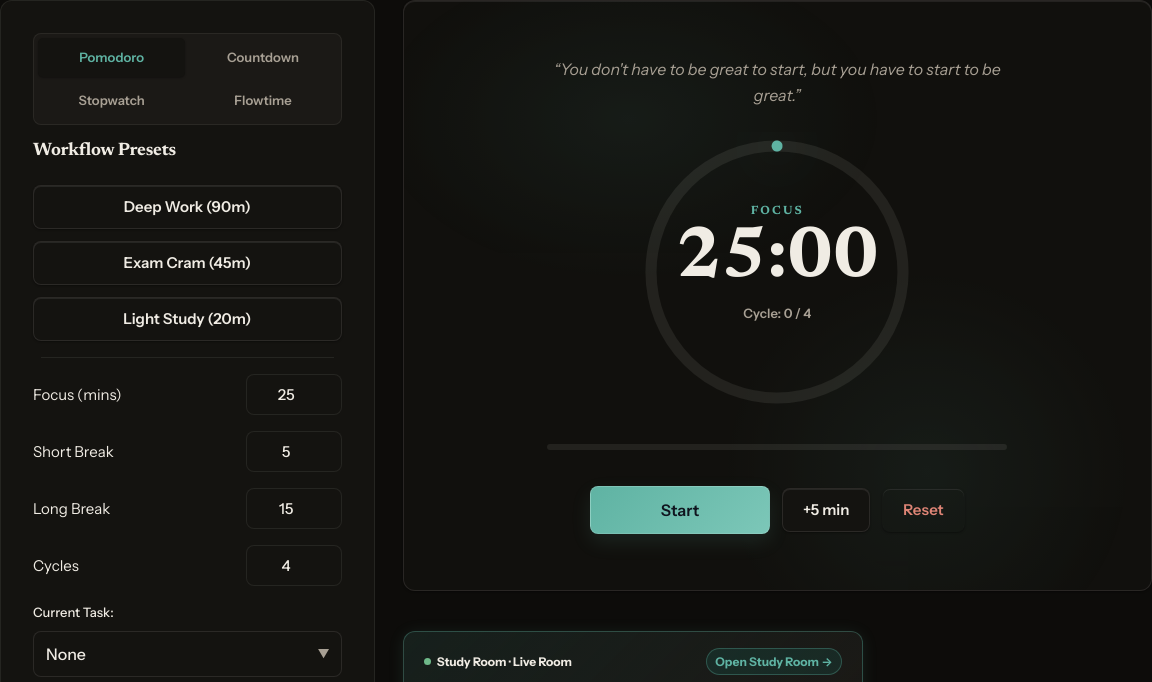
Test case: TimerView › hides +5 min and the cycle counter on a count-up clock
Click the radio button labelled "Stopwatch" at (112, 100), box [79,92,145,108]
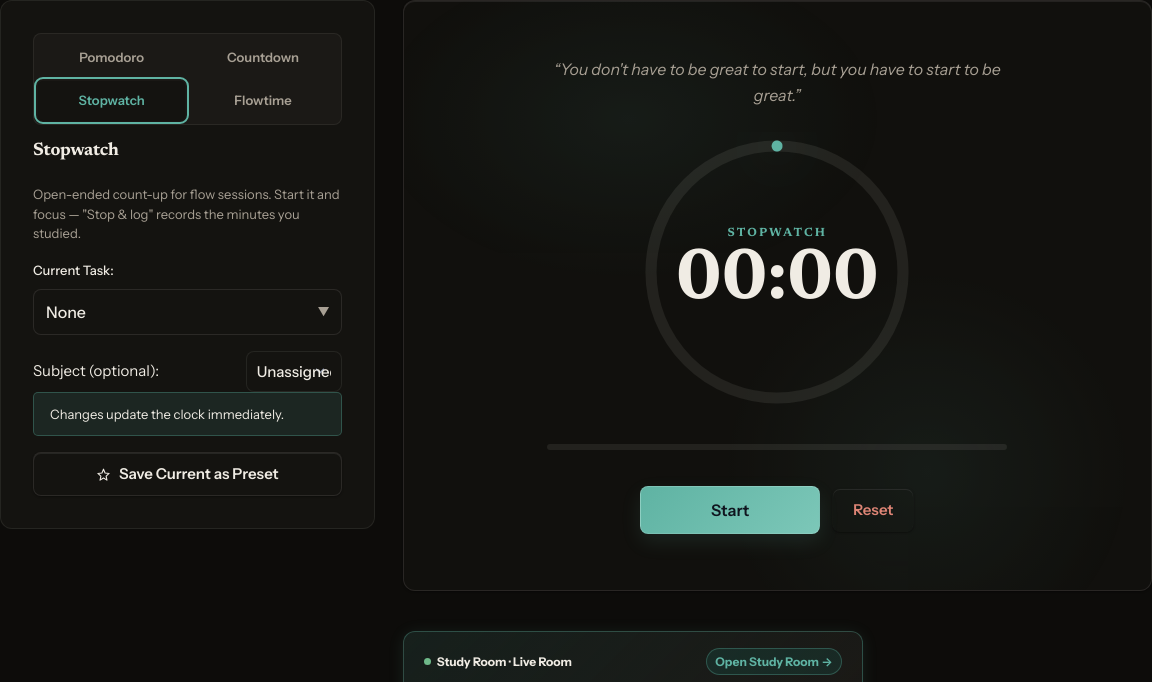
Expected: the button "+5 min" is gone
Expected: the text "Cycle:" is gone
Expected: the text "00:00" is shown, [676,245,879,317]
